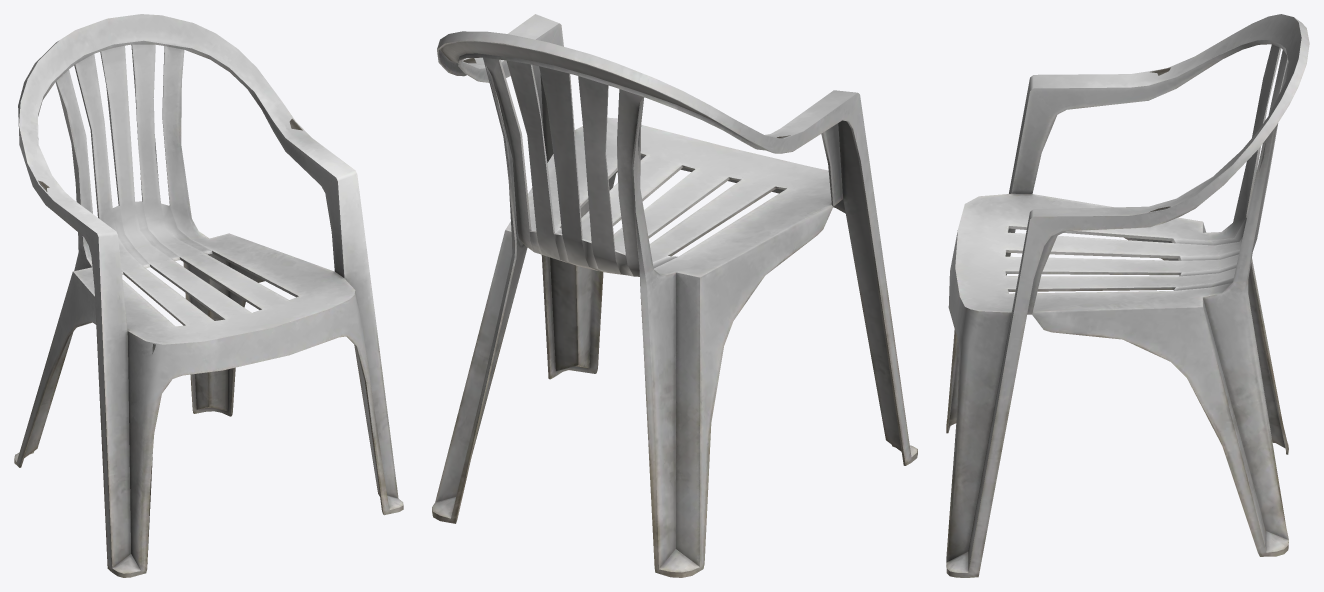
File: beach-chair-0-mid.glb
The picture shows the model from 3 angles, left to right: view 1: azimuth 30°, elevation 25°; view 2: azimuth 150°, elevation 25°; view 3: azimuth 270°, elevation 25°; orthographic projection. The views are drawn at different scales.
Visible parts, largest first — view 1: plastic_monobloc_chair_01; view 2: plastic_monobloc_chair_01; view 3: plastic_monobloc_chair_01.
Part boxes in pixels (x1,y1,x2,y2): plastic_monobloc_chair_01: [14, 14, 403, 577]; plastic_monobloc_chair_01: [432, 14, 917, 577]; plastic_monobloc_chair_01: [946, 14, 1309, 577].
Bounding box in the file's own units: 0.72 × 0.9869 × 0.704.
Materials: 1 (1 with a texture image).
